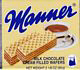grozi_69: (0, 0, 80, 69)
